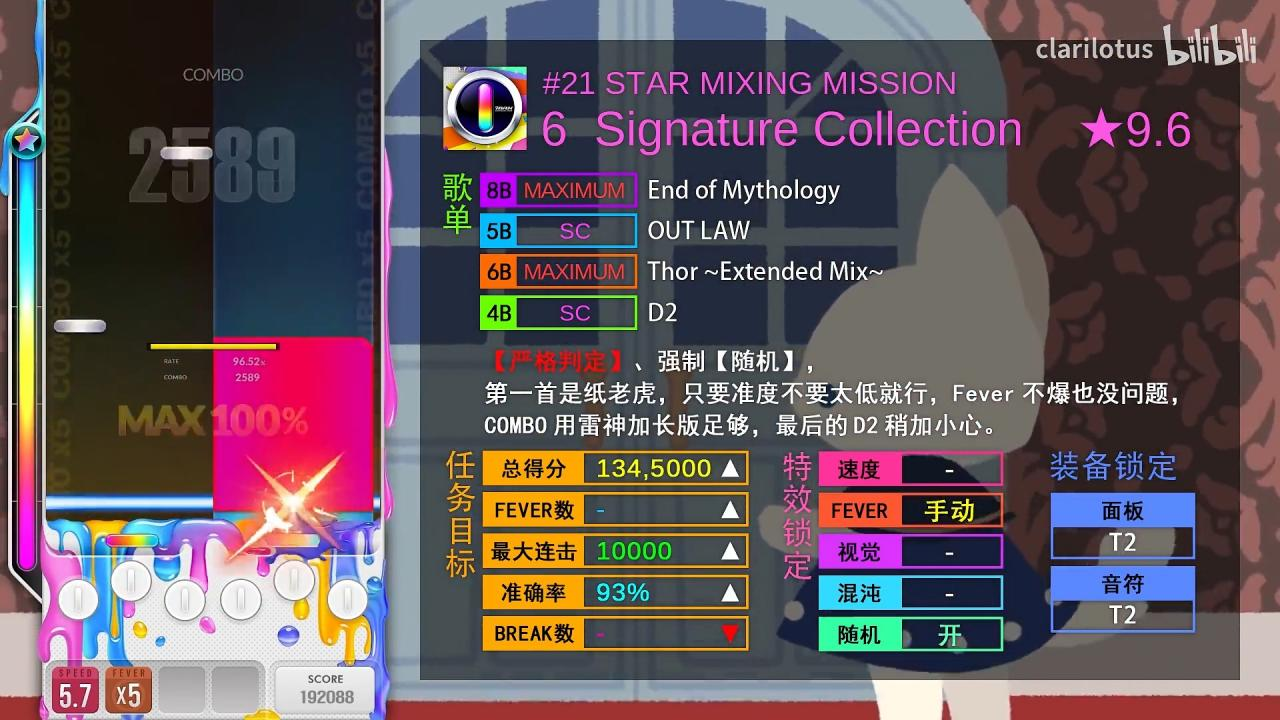note: (161, 147, 213, 160), (54, 320, 106, 332)
xend: (212, 336, 374, 353)
